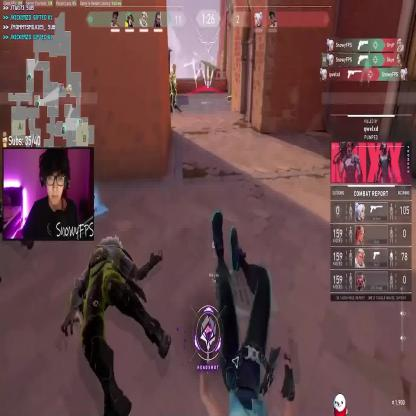enemy: (168, 64, 182, 115)
enemy_head: (171, 63, 176, 75)
